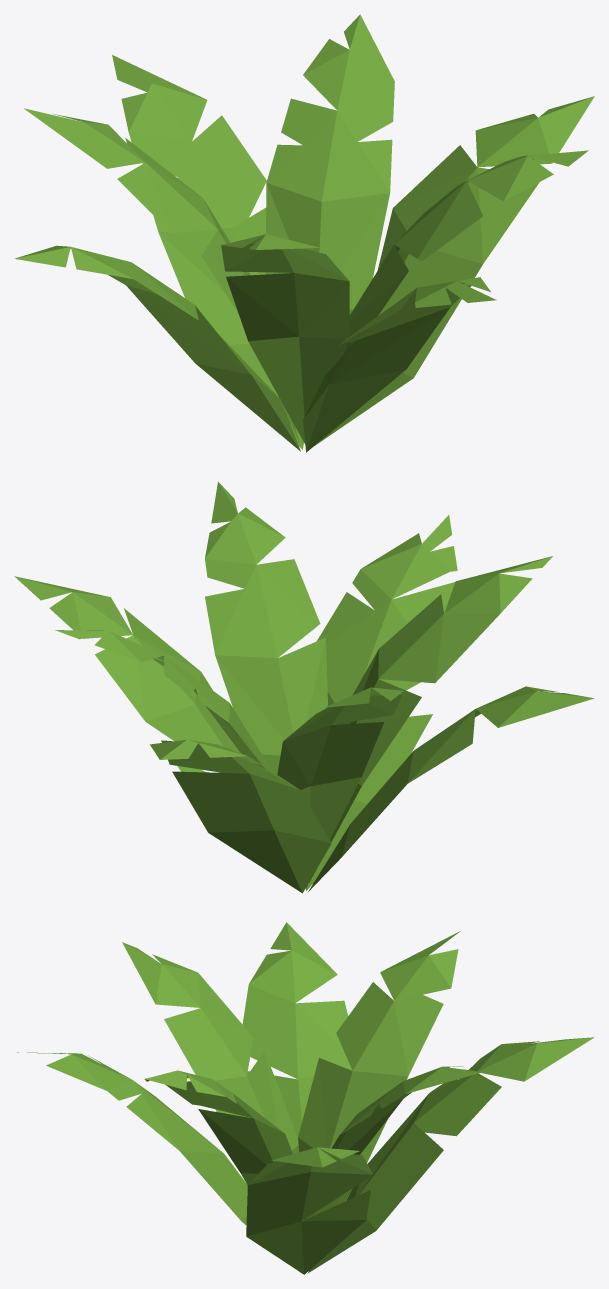
File: palm-bush.glb
3 renders of one model, top to bottom at view 1: azimuth 30°, elevation 25°; view 2: azimuth 150°, elevation 25°; view 3: azimuth 270°, elevation 25°, orthographic. The views are drawn at different scales.
Parts seen in each view (by area): view 1: palm-bush-big; view 2: palm-bush-big; view 3: palm-bush-big.
Boxes of the visible parts, left/top/right/bottom form: palm-bush-big: left=14, top=14, right=594, bottom=452; palm-bush-big: left=14, top=482, right=594, bottom=893; palm-bush-big: left=17, top=922, right=594, bottom=1274.
Bounding box in the file's own units: 3.11 × 1.61 × 3.11.
